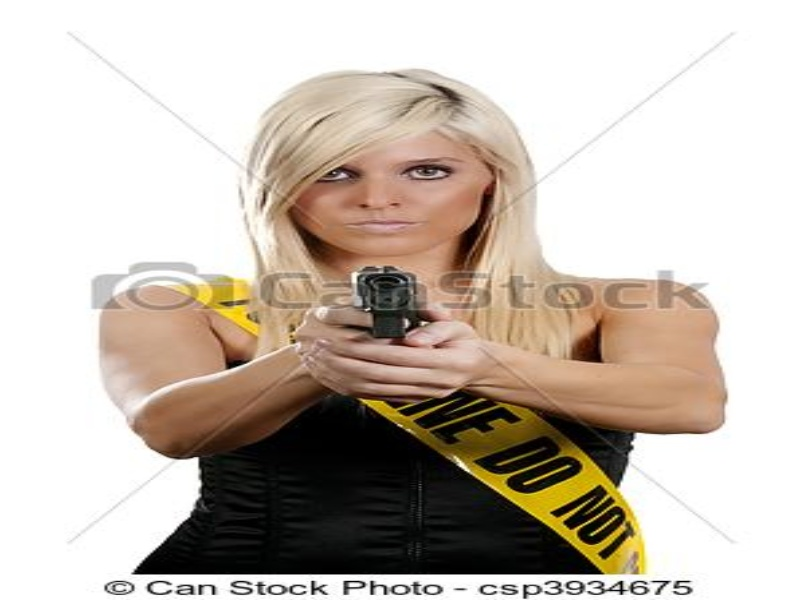gun: (335, 263, 424, 411)
